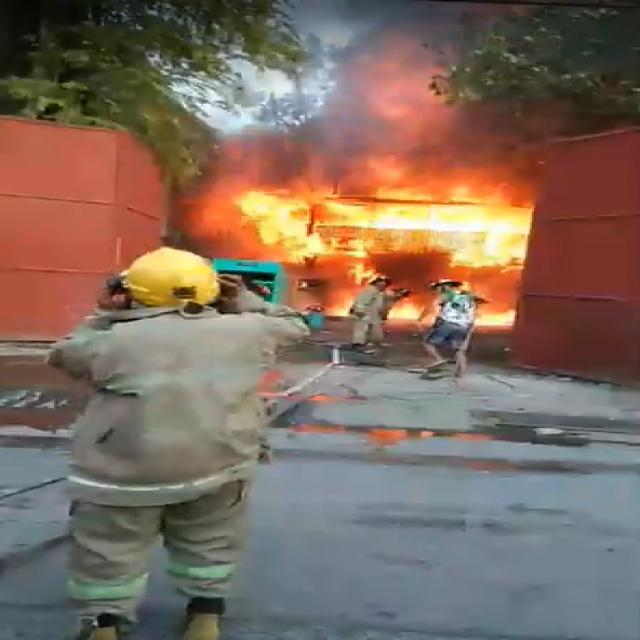Fire: (230, 190, 532, 265)
Smoke: (202, 45, 512, 211)
